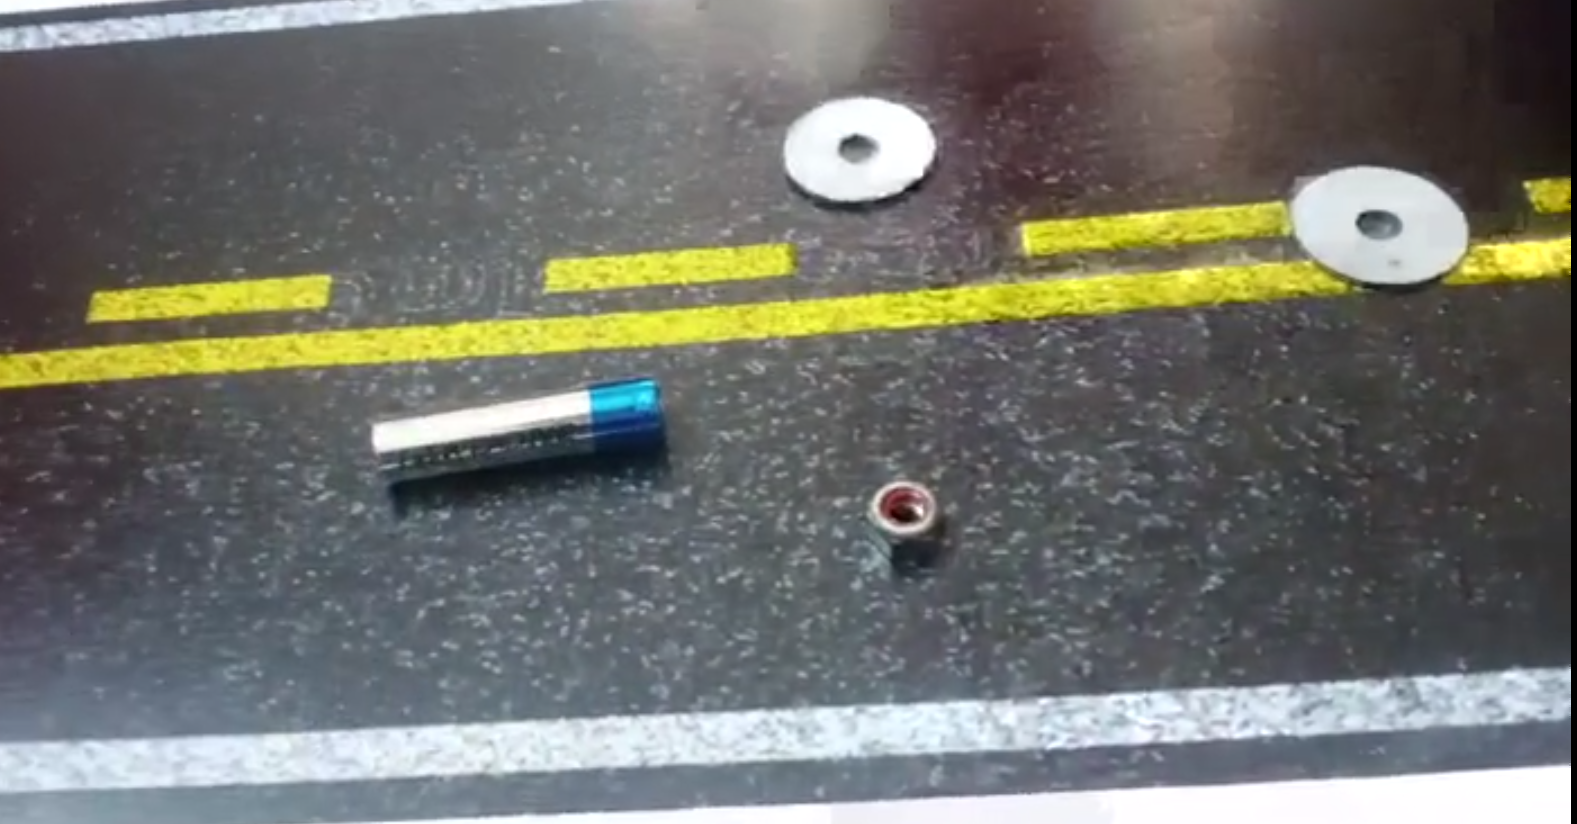metal: (351, 370, 683, 488), (1285, 155, 1471, 293), (780, 88, 938, 210), (856, 476, 955, 563)
